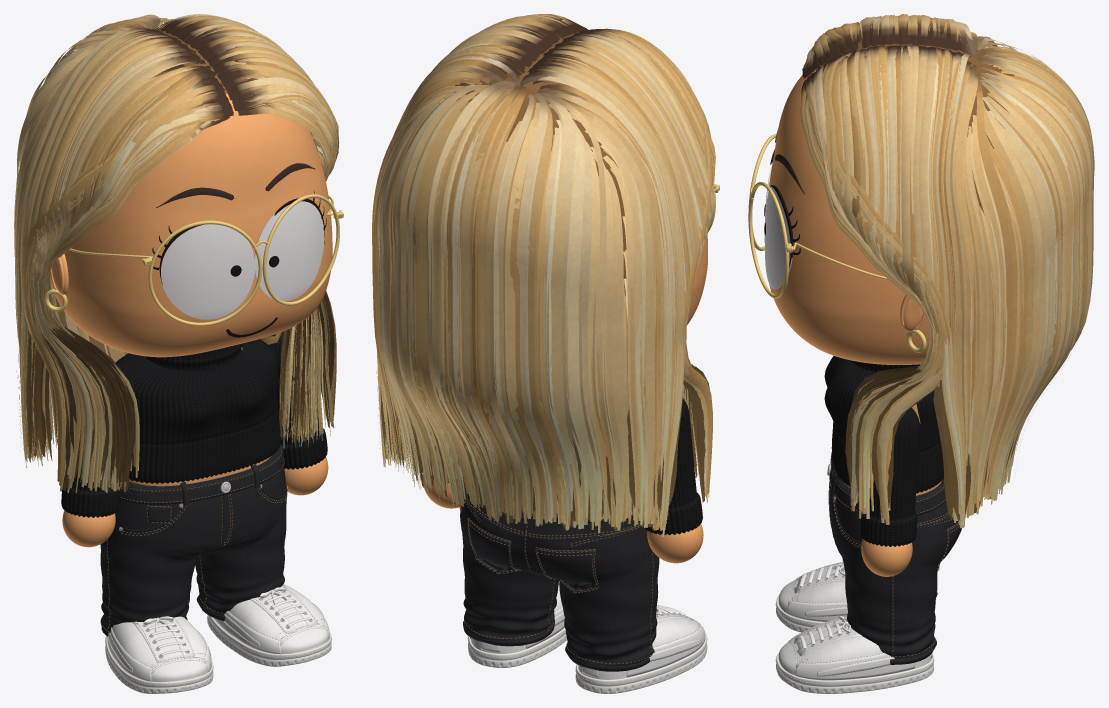
File: ioana_web_draco.glb
3 renders of one model, left to right at view 1: azimuth 30°, elevation 25°; view 2: azimuth 150°, elevation 25°; view 3: azimuth 270°, elevation 25°, orthographic. The views are drawn at different scales.
Parts seen in each view (by area): view 1: Head_Hair, Head_Skin, Body_BlackDenim, Body_RibKnit, Head_EyeWhite, Body_ShoeLeather, Body_BlackDenimDetail, Head_Gold, Body_ShoeSole, Arm_R_RibKnit, Arm_L_RibKnit, Arm_L_Skin (+6 smaller); view 2: Head_Hair, Body_BlackDenim, Body_BlackDenimDetail, Body_ShoeLeather, Body_ShoeSole, Arm_L_RibKnit, Body_Thread, Arm_L_Skin, Head_Skin; view 3: Head_Hair, Head_Skin, Body_BlackDenim, Body_ShoeLeather, Body_RibKnit, Arm_R_RibKnit, Body_ShoeSole, Body_BlackDenimDetail, Head_Gold, Head_EyeWhite, Arm_R_Skin, Body_ShoeLace (+2 smaller).
Part boxes in pixels (x1,y1,x2,y2): Head_Hair: (14, 14, 339, 493); Head_Skin: (50, 93, 332, 357); Body_BlackDenim: (100, 449, 286, 631); Body_RibKnit: (115, 339, 280, 483); Head_EyeWhite: (160, 201, 323, 319); Body_ShoeLeather: (107, 584, 329, 682); Body_BlackDenimDetail: (101, 444, 287, 636); Head_Gold: (44, 194, 343, 326); Body_ShoeSole: (105, 615, 331, 693); Arm_R_RibKnit: (268, 334, 327, 469); Arm_L_RibKnit: (61, 465, 120, 517); Arm_L_Skin: (62, 510, 115, 547); Head_Hair: (372, 14, 715, 536); Body_BlackDenim: (460, 494, 659, 666); Body_BlackDenimDetail: (463, 502, 652, 671); Body_ShoeLeather: (470, 584, 705, 679); Body_ShoeSole: (468, 627, 707, 693); Arm_L_RibKnit: (645, 398, 702, 535); Body_Thread: (464, 499, 654, 664); Arm_L_Skin: (647, 524, 703, 563); Head_Skin: (687, 233, 707, 324); Head_Hair: (800, 14, 1094, 528); Head_Skin: (769, 64, 930, 364); Body_BlackDenim: (829, 472, 958, 658); Body_ShoeLeather: (778, 562, 932, 680); Body_RibKnit: (824, 356, 943, 493); Arm_R_RibKnit: (860, 407, 920, 546); Body_ShoeSole: (776, 594, 933, 693); Body_BlackDenimDetail: (828, 452, 961, 664); Head_Gold: (748, 134, 926, 352); Head_EyeWhite: (764, 162, 792, 289); Arm_R_Skin: (861, 539, 912, 576); Body_ShoeLace: (799, 559, 850, 649).
Size of the model in its own units: 0.7975 by 1.57 by 0.8073.
Materials: 20 (8 with a texture image).
